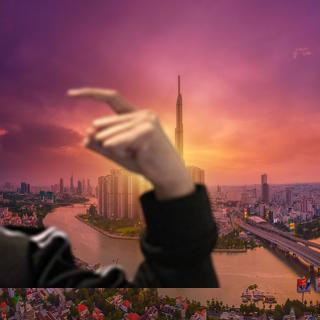WHY: (62, 81, 193, 196)
